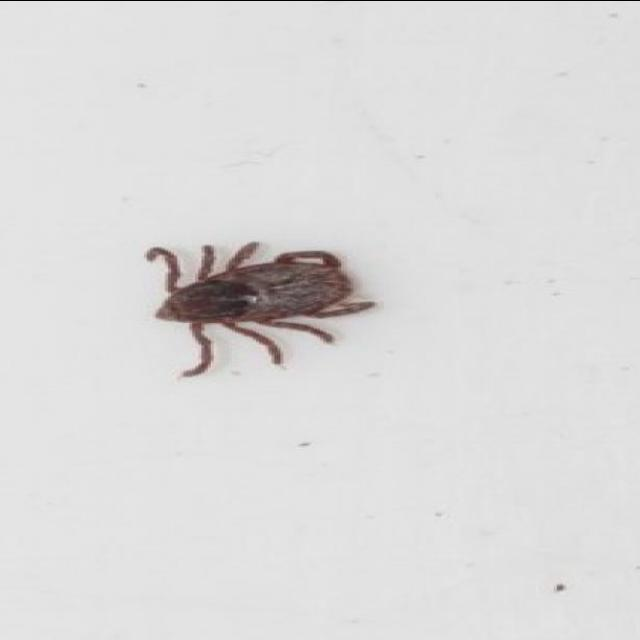Rhipicephalus Sanguineus-F: (147, 240, 381, 377)
